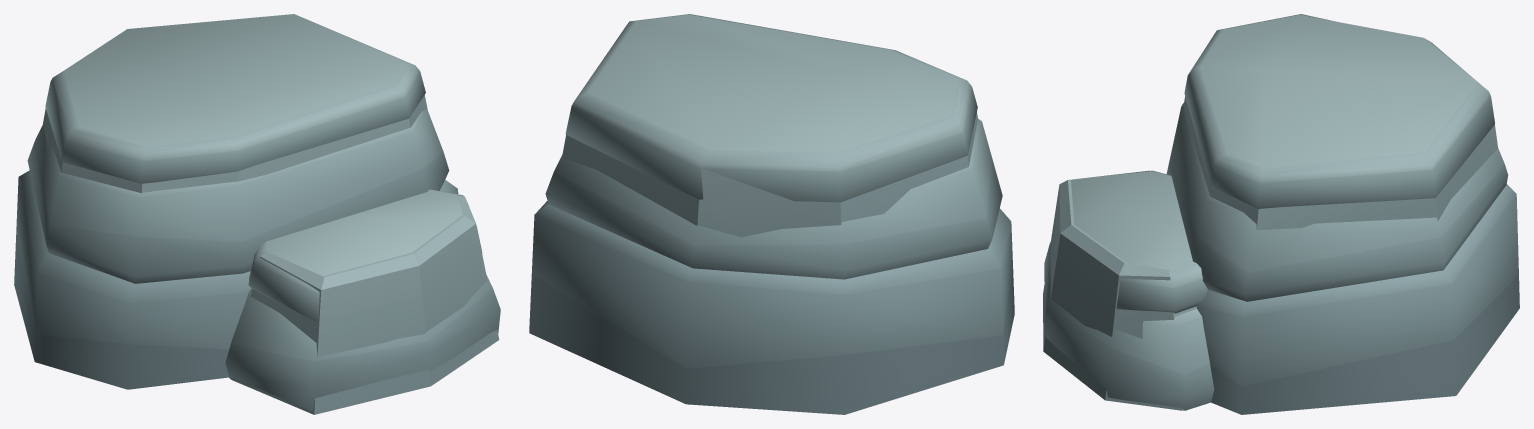
Rendered from rock 02.fbx.
The picture shows the model from 3 angles, left to right: view 1: azimuth 30°, elevation 25°; view 2: azimuth 150°, elevation 25°; view 3: azimuth 270°, elevation 25°; orthographic projection. The views are drawn at different scales.
Visible parts, largest first — view 1: rock 02, rock 02 low; view 2: rock 02, rock 02 low; view 3: rock 02, rock 02 low.
Boxes of the visible parts, x1=… form: rock 02: x1=14, y1=14, x2=500, y2=411; rock 02 low: x1=43, y1=95, x2=499, y2=414; rock 02: x1=529, y1=14, x2=1014, y2=414; rock 02 low: x1=562, y1=112, x2=977, y2=237; rock 02: x1=1044, y1=14, x2=1519, y2=414; rock 02 low: x1=1043, y1=96, x2=1497, y2=410.
Bounding box in the file's own units: 378 × 200 × 384.
Materials: 1 (1 with a texture image).
